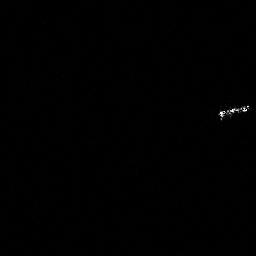ship: (218, 104, 250, 119)
